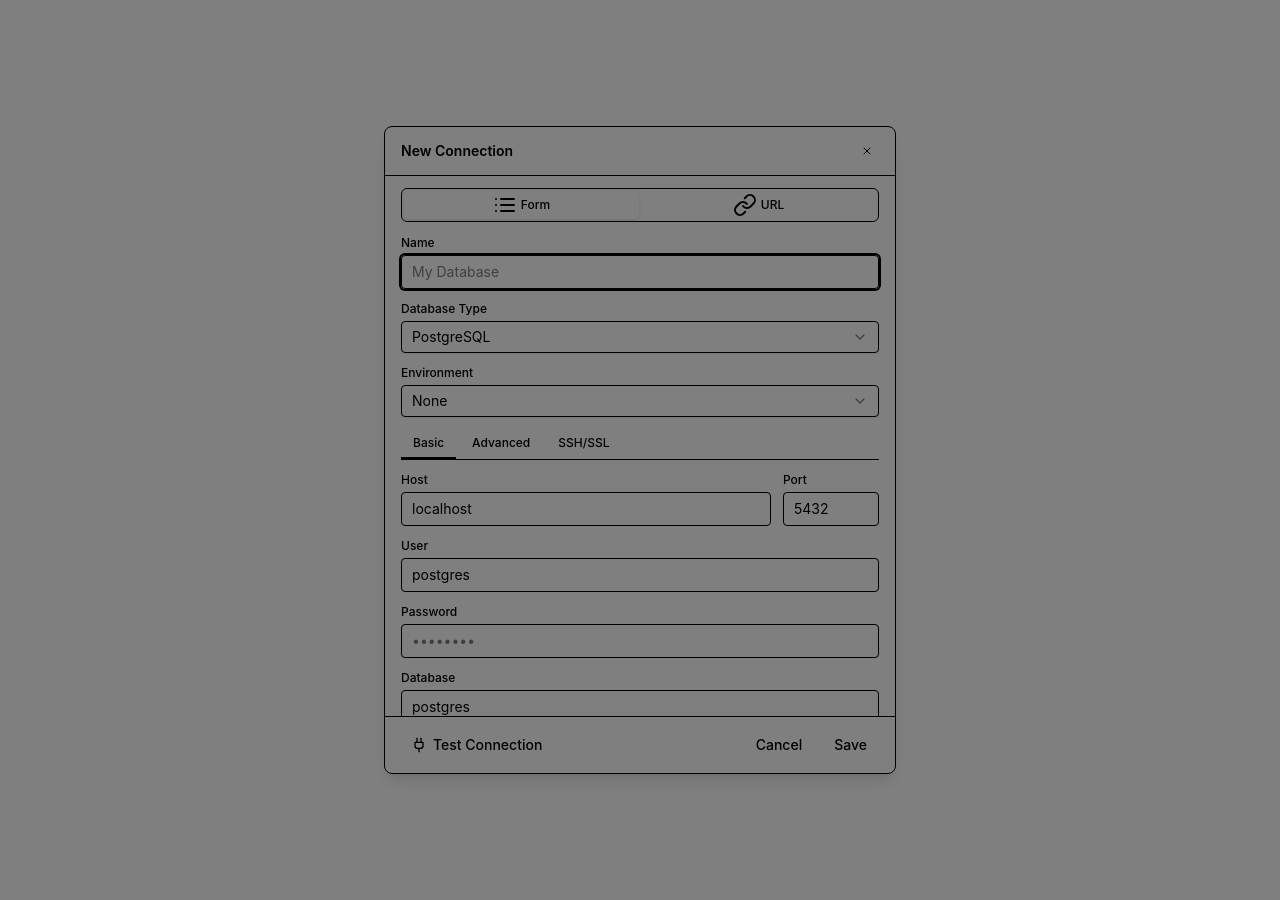
Test: ConnectionDialog form segments (#2436) › [conn-segment] Save from the SSH/SSL segment returns to Basic and focuses the rejected Host
Type "Segmented" into the field labelled "Name".
click(640, 272); type("Segmented")  # box [401,255,879,289]
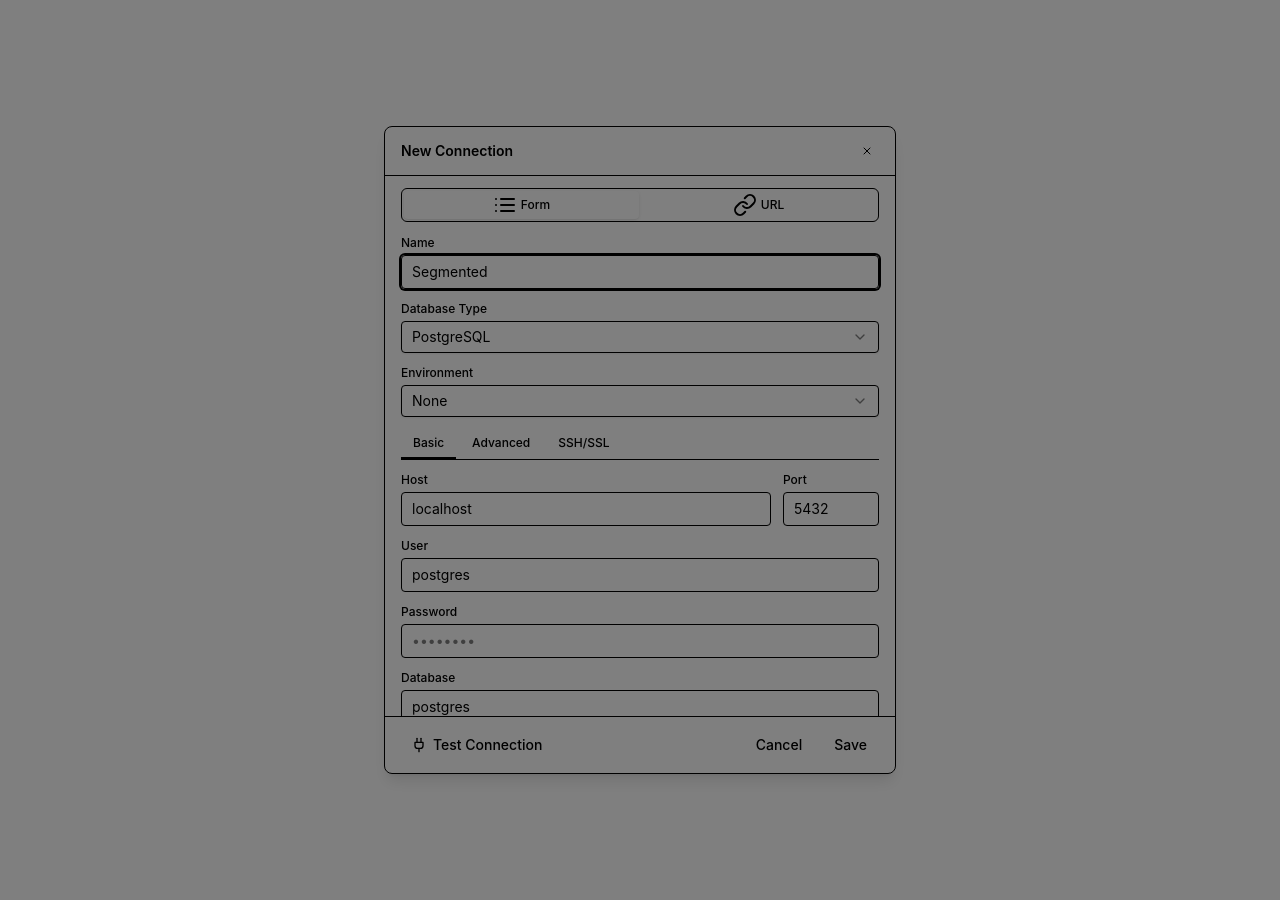
Clear the field labelled "Host" at [586, 509], box [401,492,771,526]
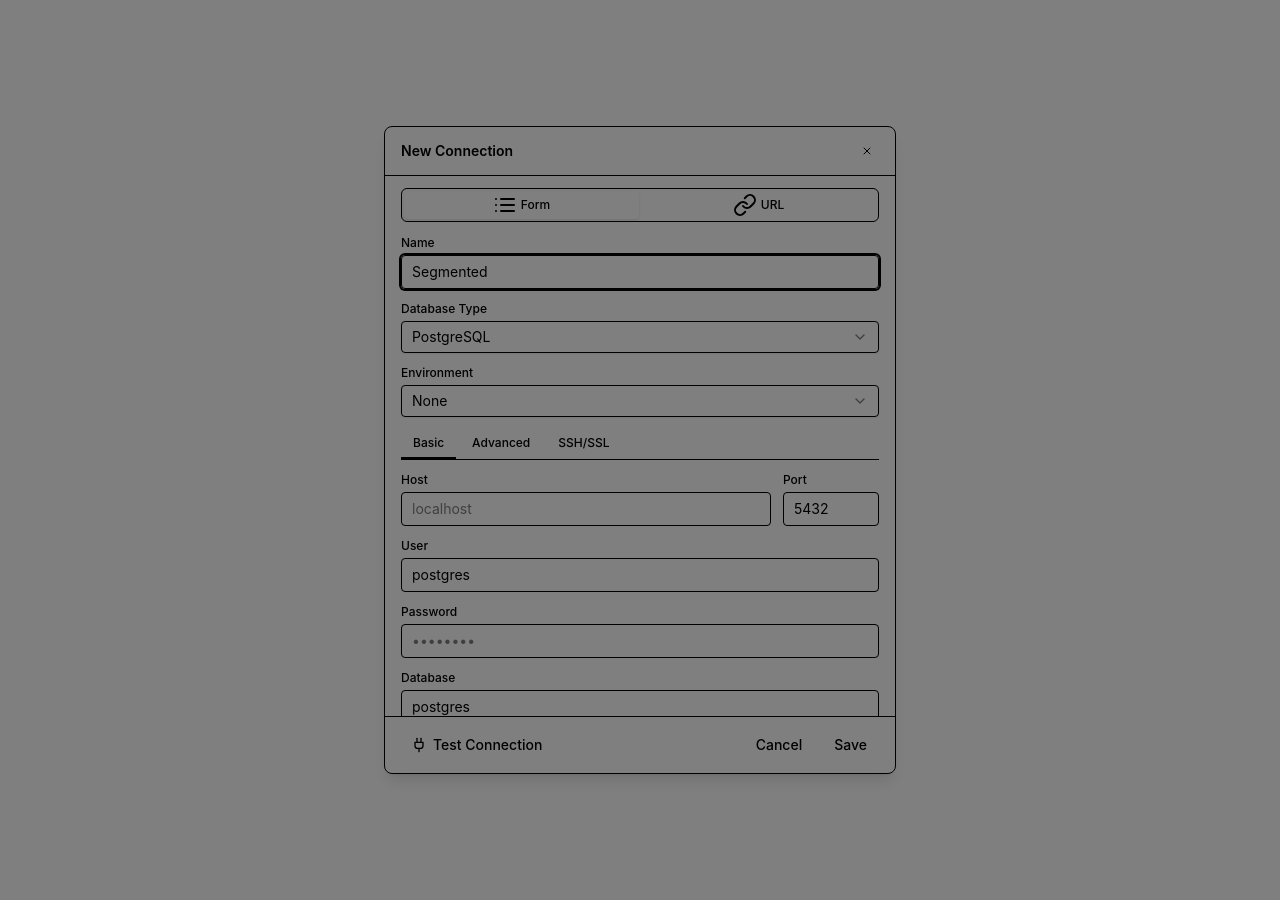
Press the mouse on the tab "SSH/SSL" at [584, 444], box [546,429,622,459]
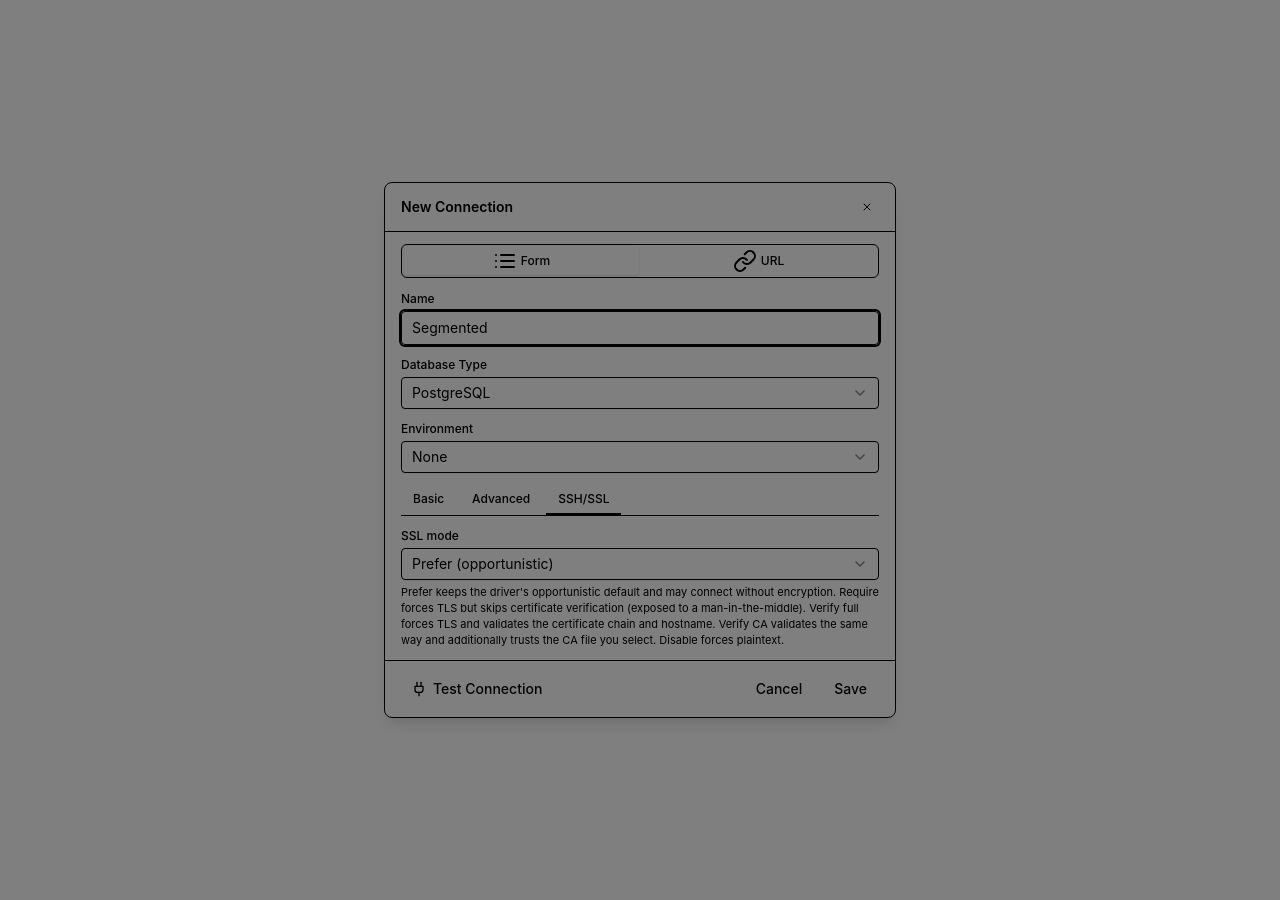
Expected: the field labelled "Host" is not shown
Click the button "Save".
click(851, 689)  # box [822,673,879,705]
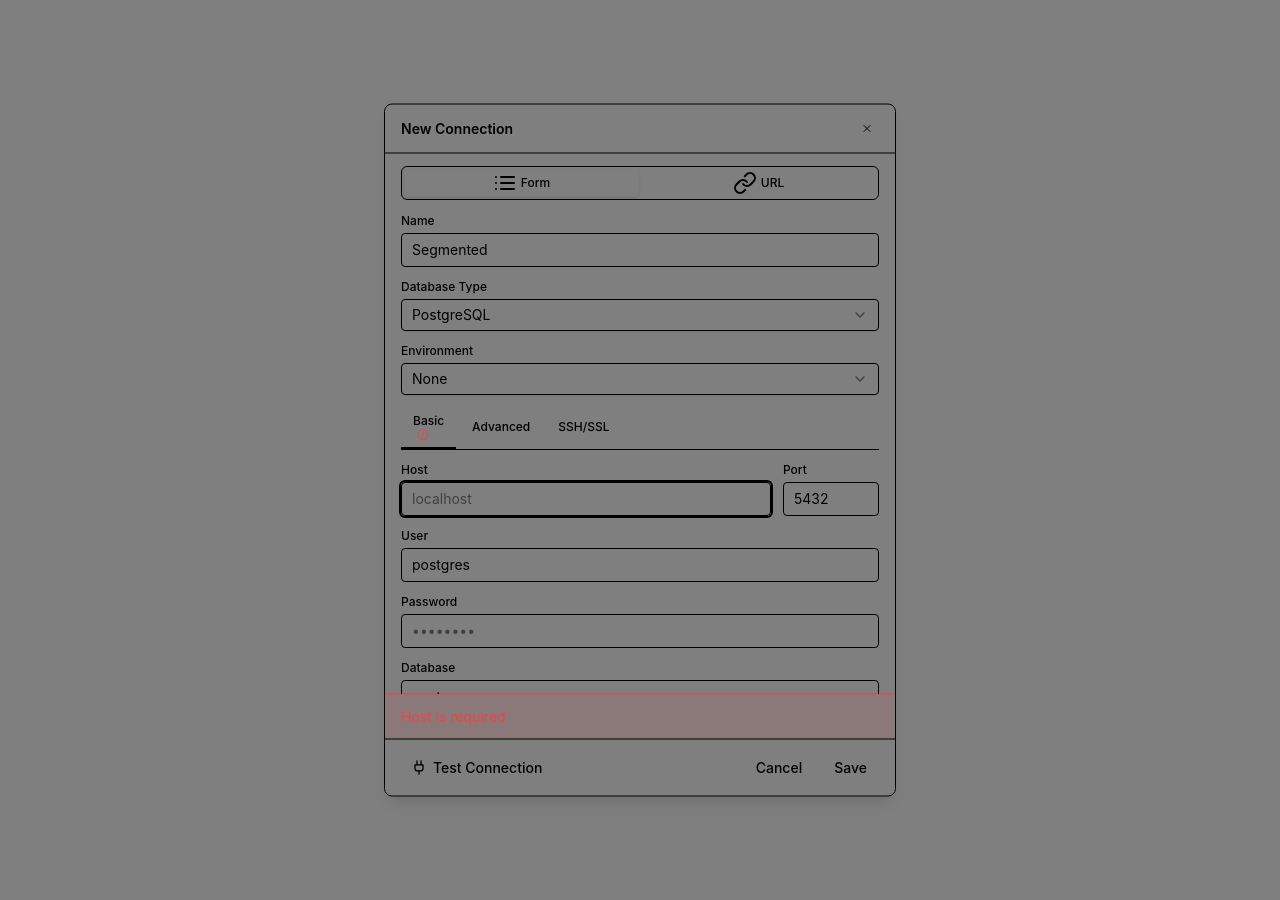
Now the message reads "Host is required", box [401,708,506,724]
